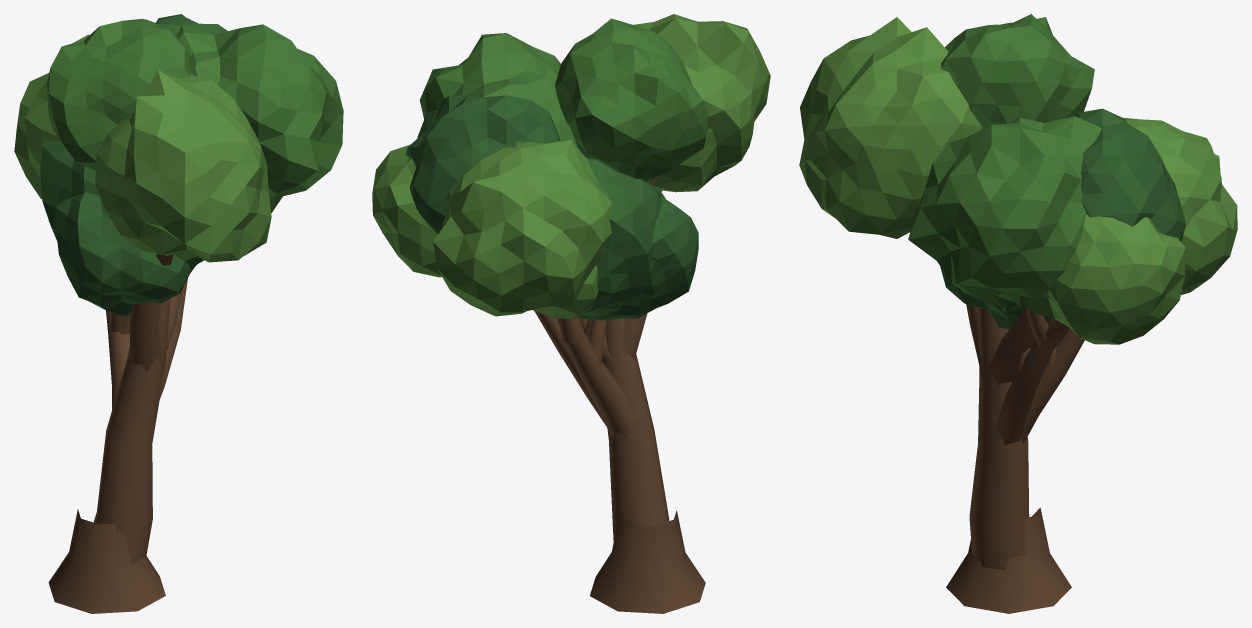
File: tree_oak.glb
The picture shows the model from 3 angles, left to right: view 1: azimuth 30°, elevation 25°; view 2: azimuth 150°, elevation 25°; view 3: azimuth 270°, elevation 25°; orthographic projection. The views are drawn at different scales.
Parts seen in each view (by area): view 1: tree; view 2: tree; view 3: tree.
Part boxes in pixels (x1=…): tree: x1=14, y1=14, x2=343, y2=613; tree: x1=372, y1=14, x2=770, y2=613; tree: x1=799, y1=14, x2=1237, y2=613.
Bounding box in the file's own units: 3.19 × 6.14 × 4.17.
